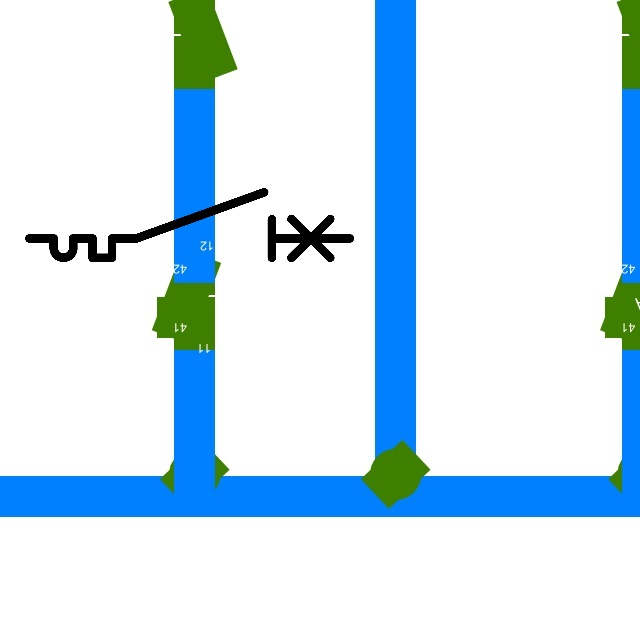interruptor_termomagnetico: (21, 184, 358, 266)
